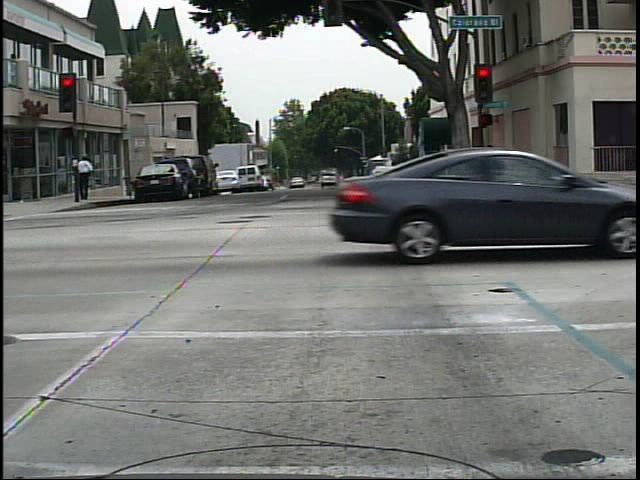person: (80, 148, 97, 200), (481, 137, 504, 156)
